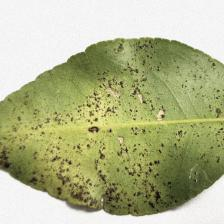canker: (57, 66, 168, 194)
